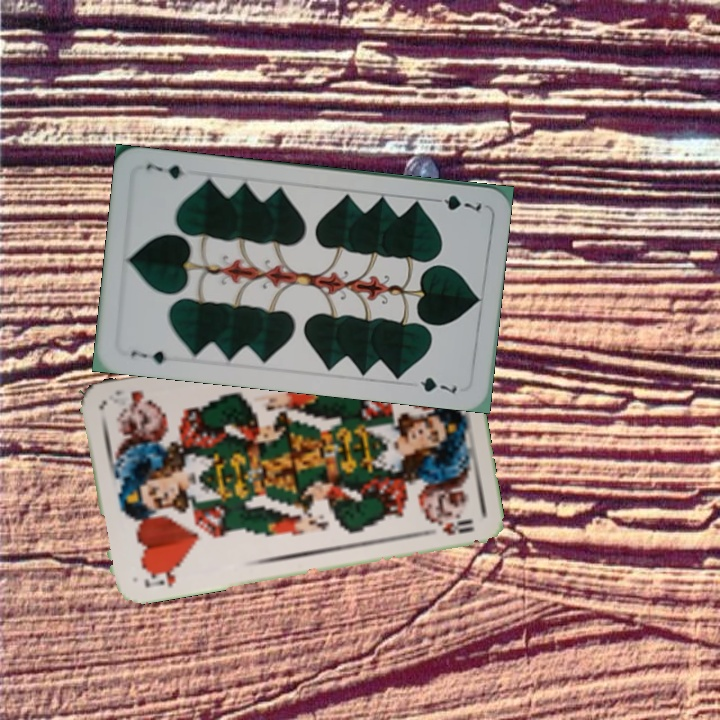G7: (426, 191, 485, 214), (126, 347, 169, 367)
HO: (140, 562, 184, 590)
